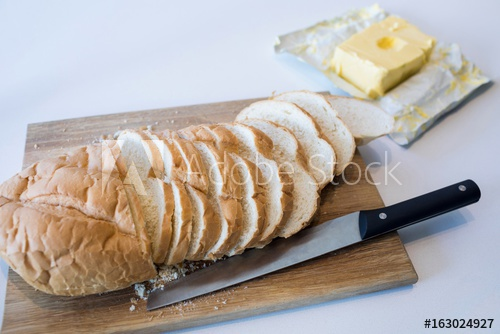slice of bread: (109, 83, 370, 266)
